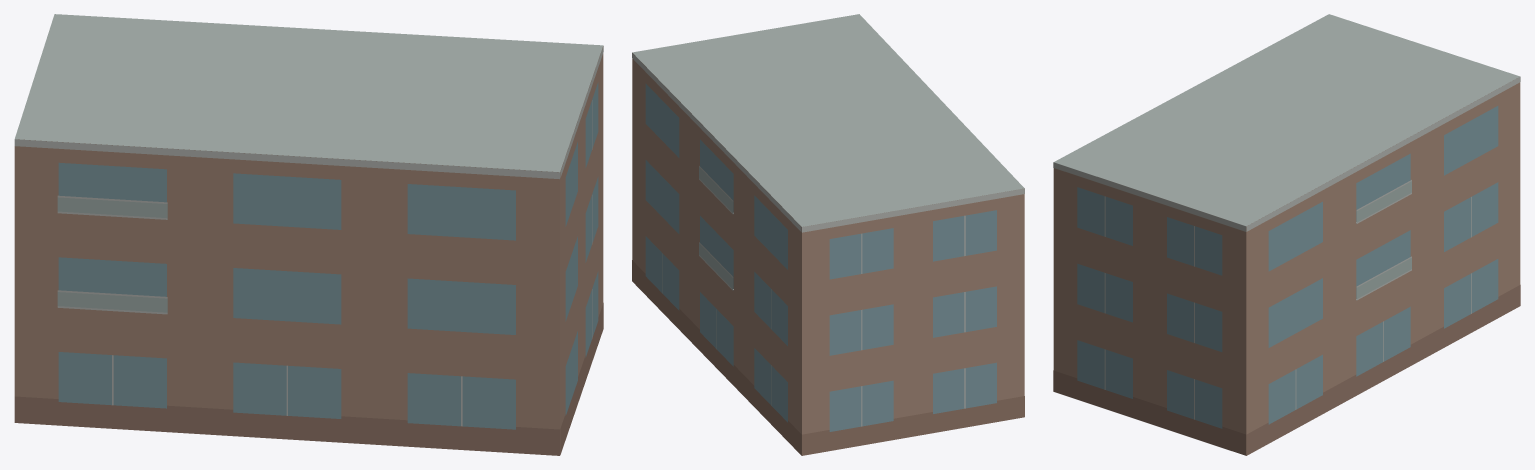
The model's file is survey-upis-32763882.glb.
3 views of the same model, side by side, from view 1: azimuth 30°, elevation 25°; view 2: azimuth 150°, elevation 25°; view 3: azimuth 270°, elevation 25° (orthographic). The views are drawn at different scales.
Parts seen in each view (by area): view 1: survey-upis-32763882.tmp; view 2: survey-upis-32763882.tmp; view 3: survey-upis-32763882.tmp.
Part boxes in pixels (x1,y1,x2,y2): survey-upis-32763882.tmp: [14, 14, 603, 455]; survey-upis-32763882.tmp: [632, 14, 1024, 455]; survey-upis-32763882.tmp: [1053, 14, 1520, 455].
Bounding box in the file's own units: 19.65 × 9.9 × 18.26.
